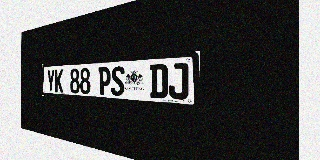8: (70, 68, 80, 94), (80, 68, 90, 94)
D: (150, 64, 168, 99)
J: (168, 63, 189, 100)
K: (55, 69, 63, 93)
P: (98, 67, 111, 95)
S: (111, 66, 124, 96)
Y: (47, 69, 55, 92)
